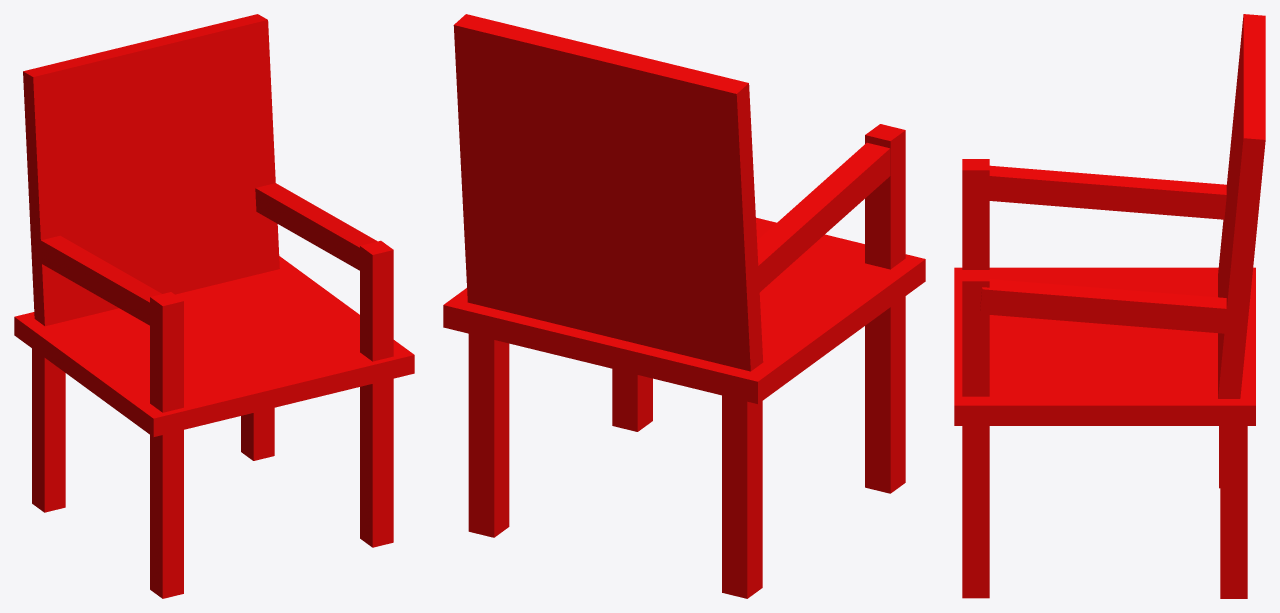
Rendered from Texture_Chair.obj.
3 views of the same model, side by side, from view 1: azimuth 30°, elevation 25°; view 2: azimuth 150°, elevation 25°; view 3: azimuth 270°, elevation 25° (orthographic). The views are drawn at different scales.
Visible parts, largest first — view 1: pCube8; view 2: pCube8; view 3: pCube8.
Boxes of the visible parts, box(x1,y1,x2,y2) form: pCube8: box(14, 14, 414, 598); pCube8: box(443, 14, 925, 598); pCube8: box(954, 14, 1265, 598).
Size of the model in its own units: 6.21 by 9.7 by 5.91.
